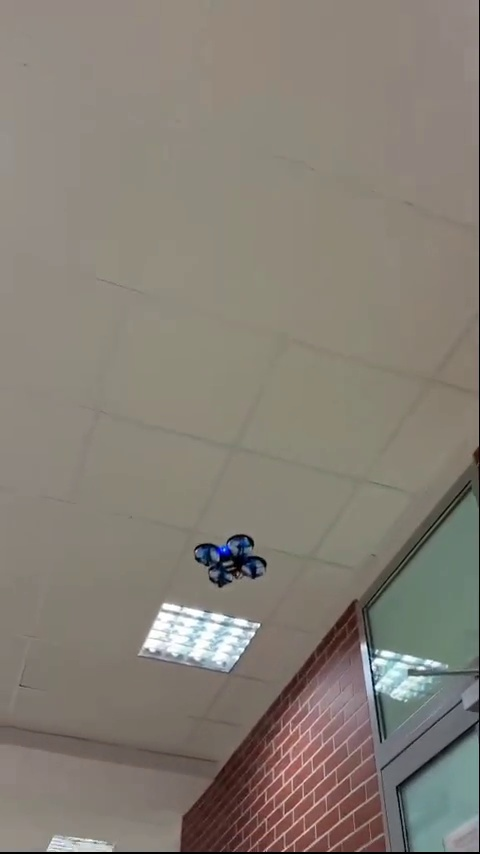drone: (194, 533, 265, 593)
